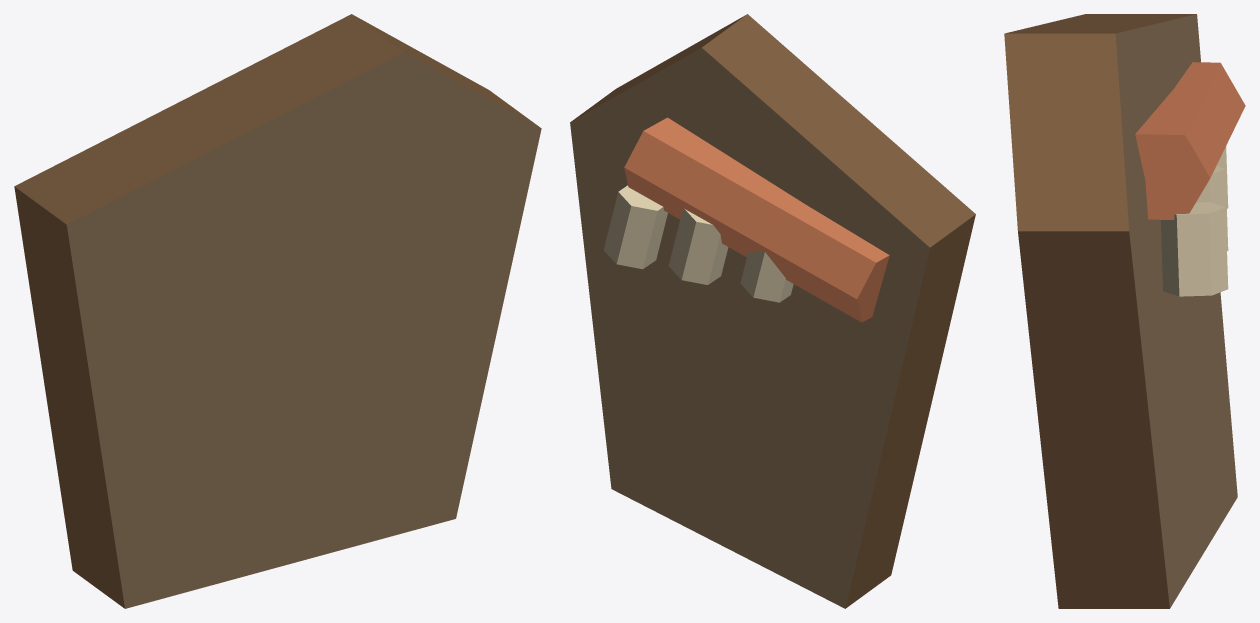
File: pelt_capelet.glb
The picture shows the model from 3 angles, left to right: view 1: azimuth 30°, elevation 25°; view 2: azimuth 150°, elevation 25°; view 3: azimuth 270°, elevation 25°; orthographic projection. The views are drawn at different scales.
Visible parts, largest first — view 1: pelt_capelet; view 2: pelt_capelet; view 3: pelt_capelet.
Part boxes in pixels (x1=…): pelt_capelet: x1=14, y1=14, x2=541, y2=608; pelt_capelet: x1=570, y1=14, x2=975, y2=608; pelt_capelet: x1=1004, y1=14, x2=1245, y2=608.
Size of the model in its own units: 0.4 by 0.47 by 0.1778.
